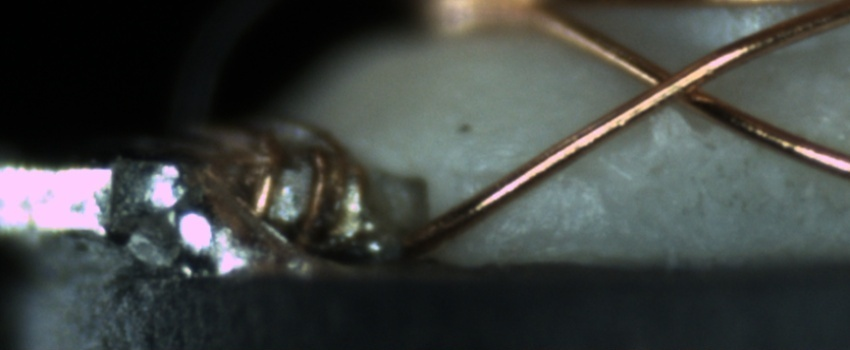CL: (622, 48, 728, 118)
DL: (460, 152, 587, 197)
TE: (177, 115, 366, 250)
